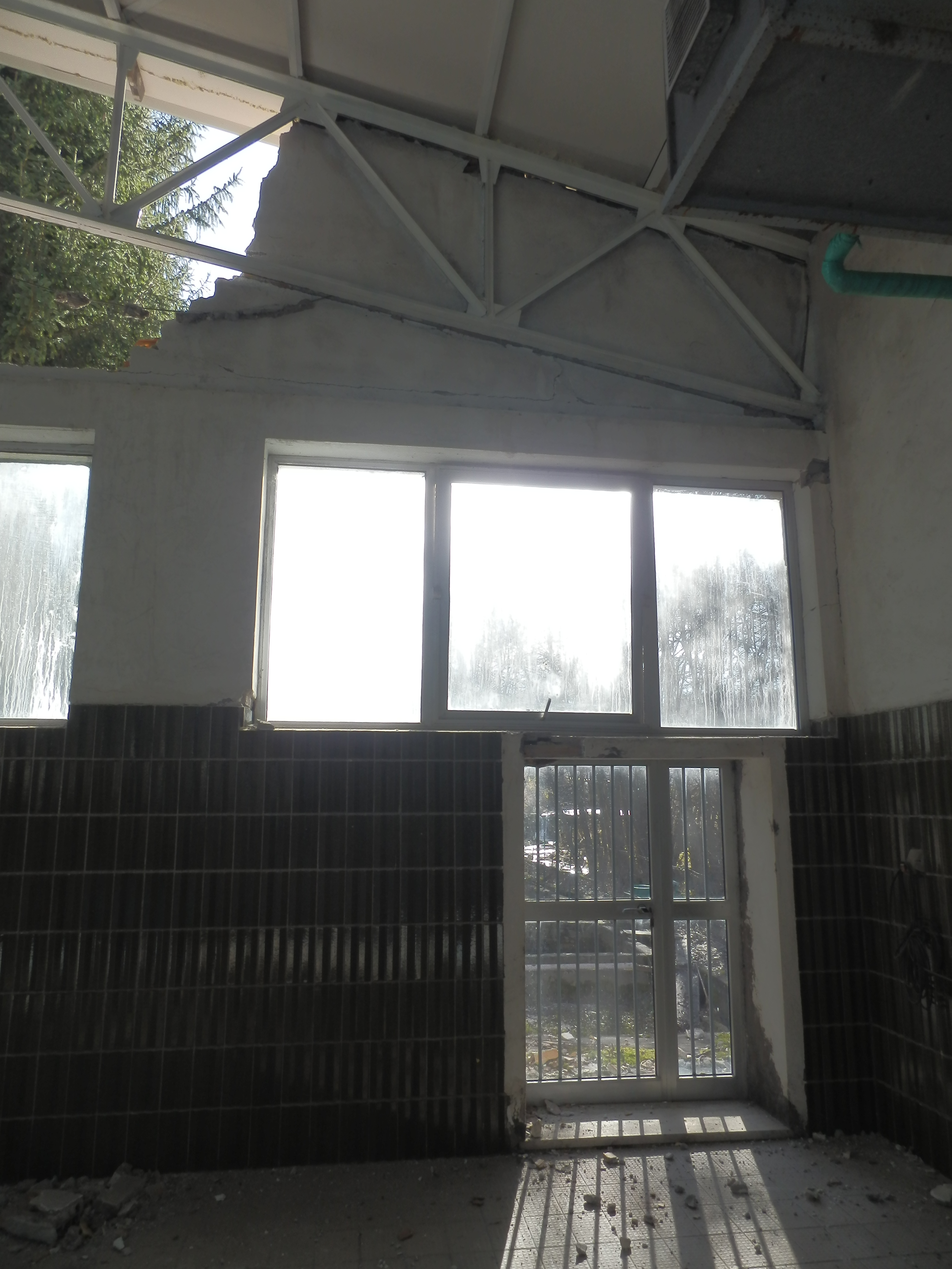Crack: (121, 354, 803, 424), (821, 471, 857, 714), (68, 688, 257, 712), (803, 595, 844, 621), (519, 734, 566, 750)
Debris: (511, 1129, 948, 1265), (1, 1159, 276, 1264), (526, 1096, 582, 1139), (247, 715, 277, 730)
Other damage/mechanism: (2, 37, 304, 371)
Spalling: (797, 456, 833, 490), (807, 462, 831, 482)
